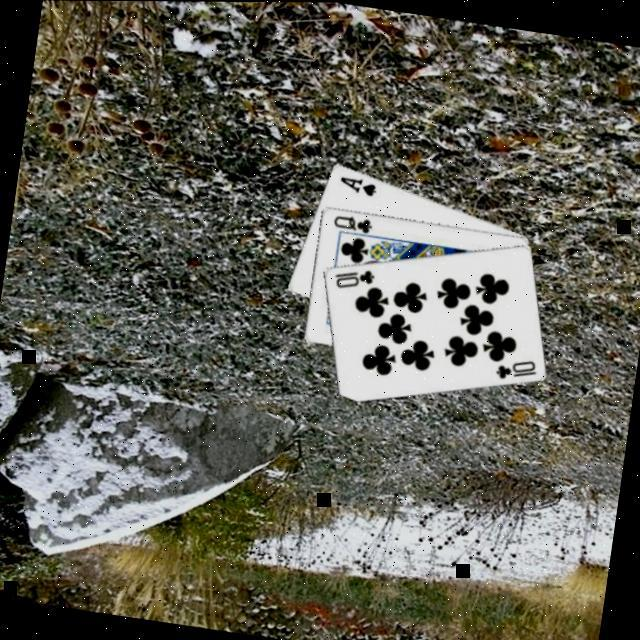10C: (490, 352, 539, 386), (328, 261, 376, 295)
AS: (332, 171, 379, 199)
QC: (328, 210, 374, 236)
